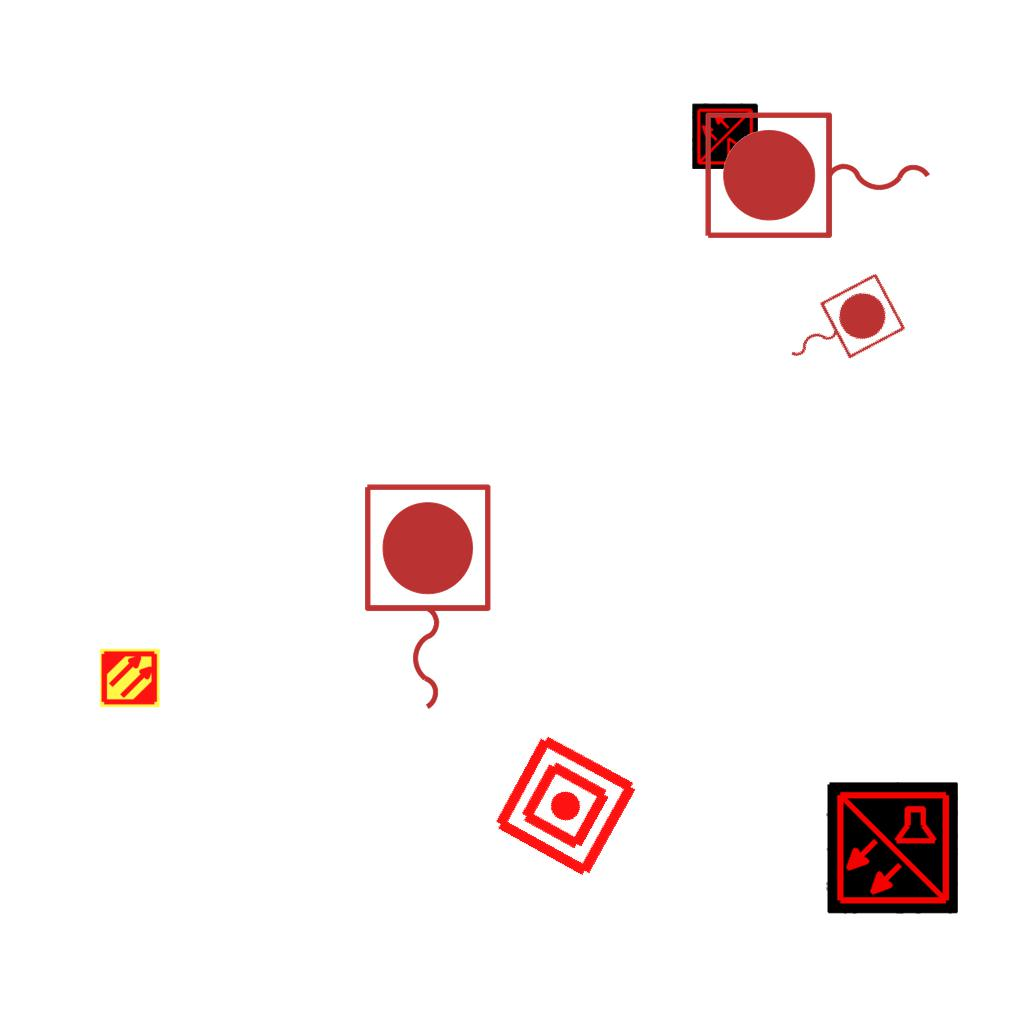ASR_Ansaugrauchmelder: (99, 647, 161, 709)
NAM-Nichtautomatischer_Melder: (488, 728, 643, 883)
OKW_Multisensormelder_(Kombination_optischer_Rauch-Kahlenmonoxid_Waerme-Melder): (826, 782, 958, 914), (692, 103, 758, 169)
Zugtaster: (354, 476, 498, 720), (697, 105, 941, 249), (769, 266, 911, 388)
